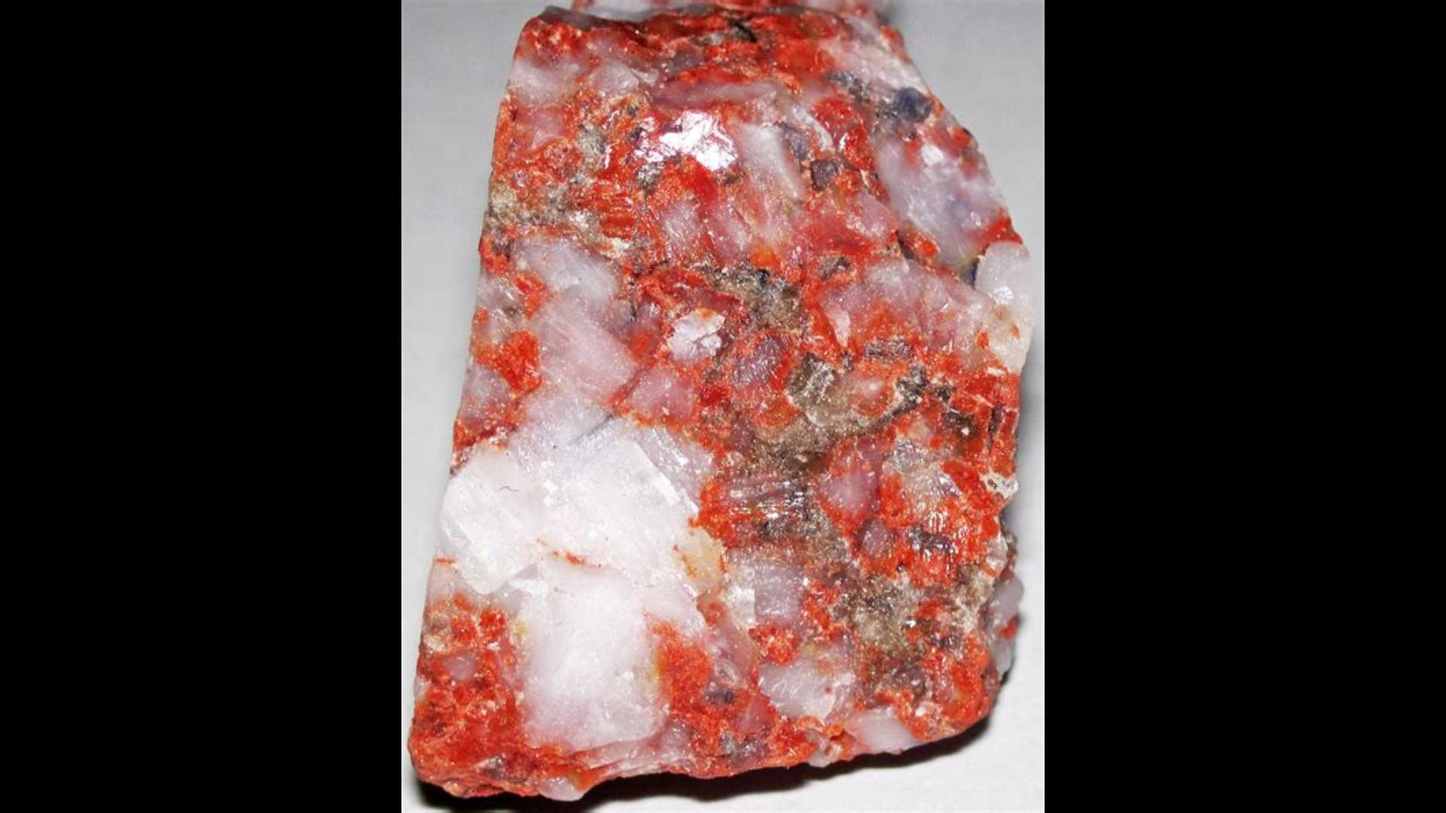rock: (411, 5, 1030, 791)
